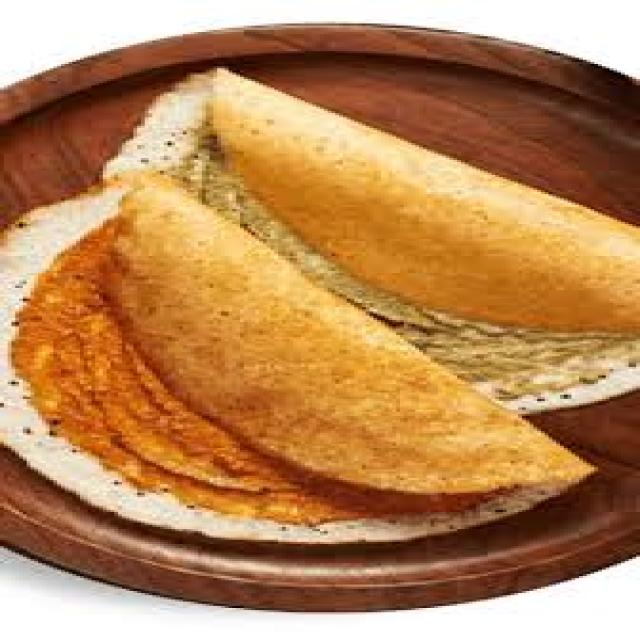DOSA: (0, 174, 590, 541), (111, 68, 636, 415)
